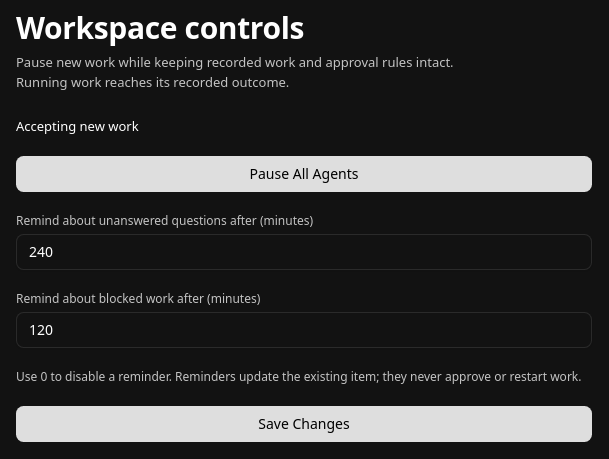
Scenario: pausing waits for the recorded control and sends its current version
What coordinates should you click on to do the following:
click the button "Pause All Agents"
I would click on:
 (304, 174)
Its box is [16,156,592,192].
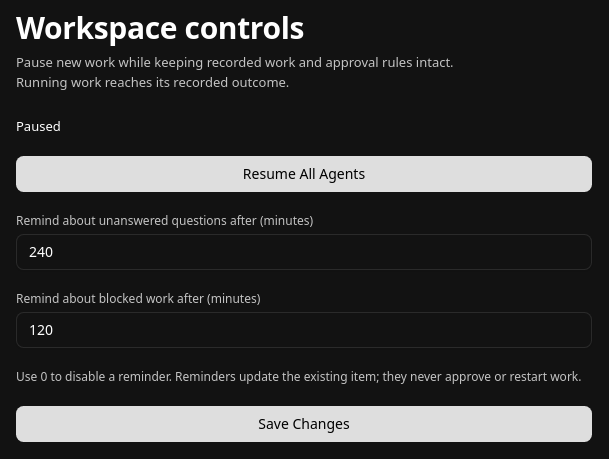
Result: the button "Resume All Agents" is shown at [16,156,592,192]
